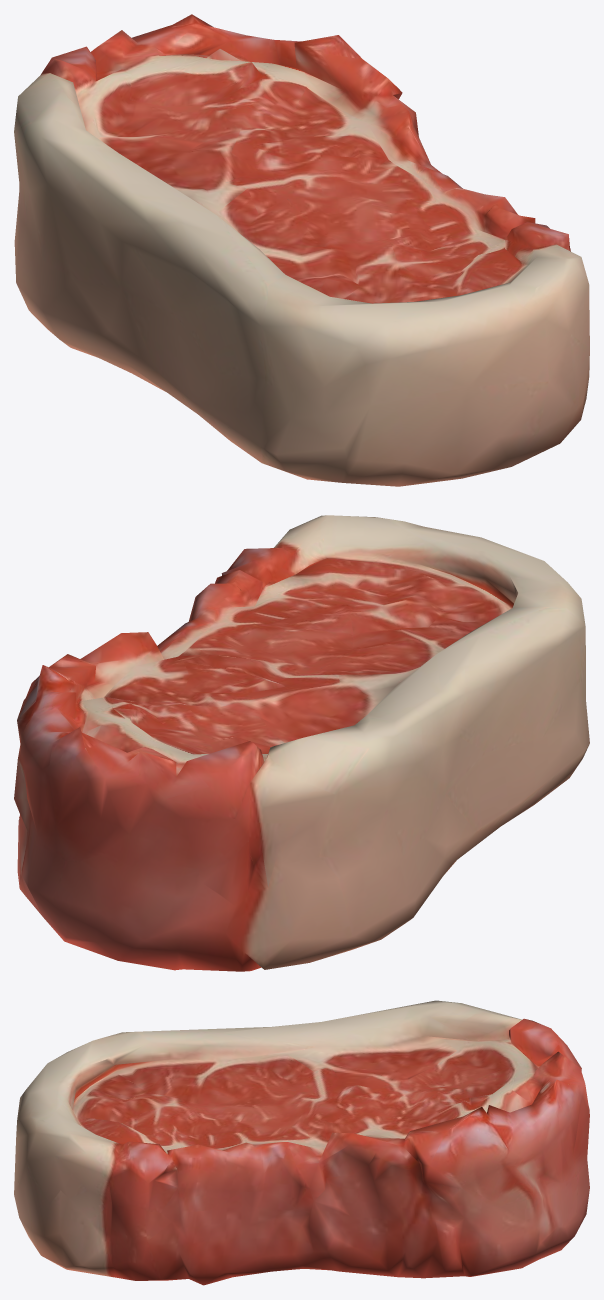
Rendered from meat_bife.glb.
3 renders of one model, top to bottom at view 1: azimuth 30°, elevation 25°; view 2: azimuth 150°, elevation 25°; view 3: azimuth 270°, elevation 25°, orthographic. The views are drawn at different scales.
Parts seen in each view (by area): view 1: tripo_node_1f12bf1d-49d0-422f-8af0-addd2cd6d71f; view 2: tripo_node_1f12bf1d-49d0-422f-8af0-addd2cd6d71f; view 3: tripo_node_1f12bf1d-49d0-422f-8af0-addd2cd6d71f.
Boxes of the visible parts, x1,y1,x2,y2 form: tripo_node_1f12bf1d-49d0-422f-8af0-addd2cd6d71f: (14,14,589,486); tripo_node_1f12bf1d-49d0-422f-8af0-addd2cd6d71f: (14,515,589,971); tripo_node_1f12bf1d-49d0-422f-8af0-addd2cd6d71f: (14,1000,589,1285).
Size of the model in its own units: 0.5787 by 0.3362 by 1.
1 material, 1 textured.
